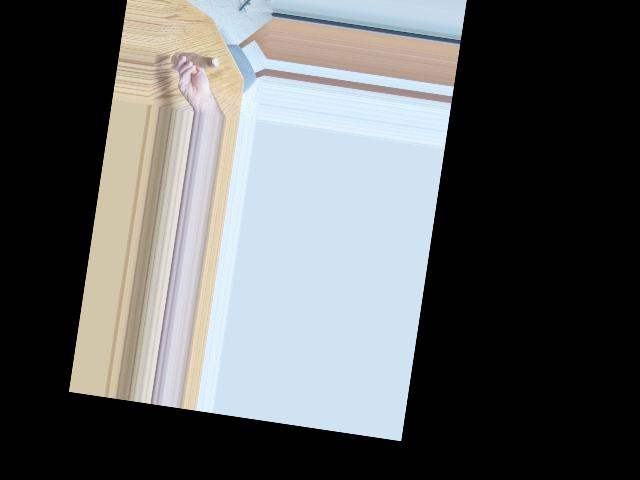sweet_potato: (169, 49, 221, 75)
